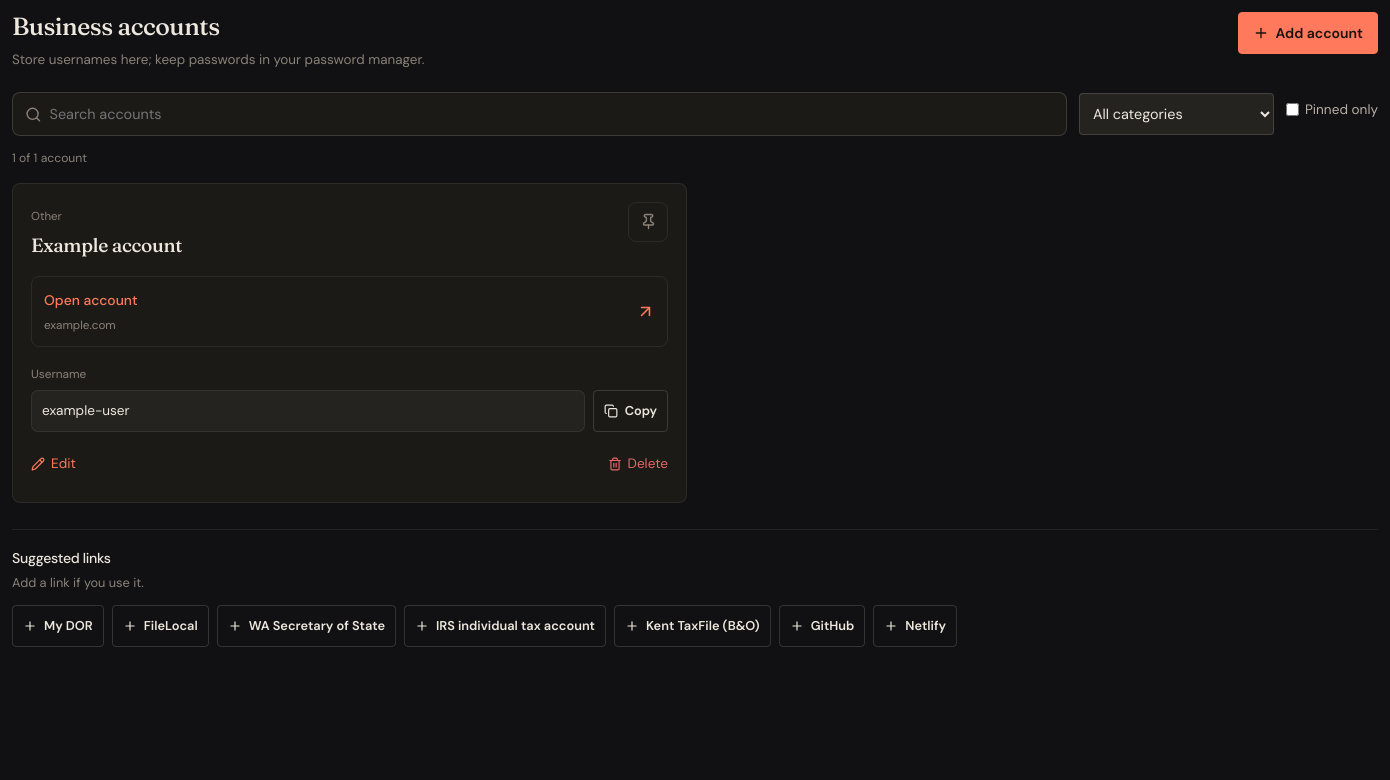
Test: private directory actions › copying uses the stored username while login links remain unchanged
Click the button with aria-label "Copy Example account username" at (630, 411), box [593,390,668,432]
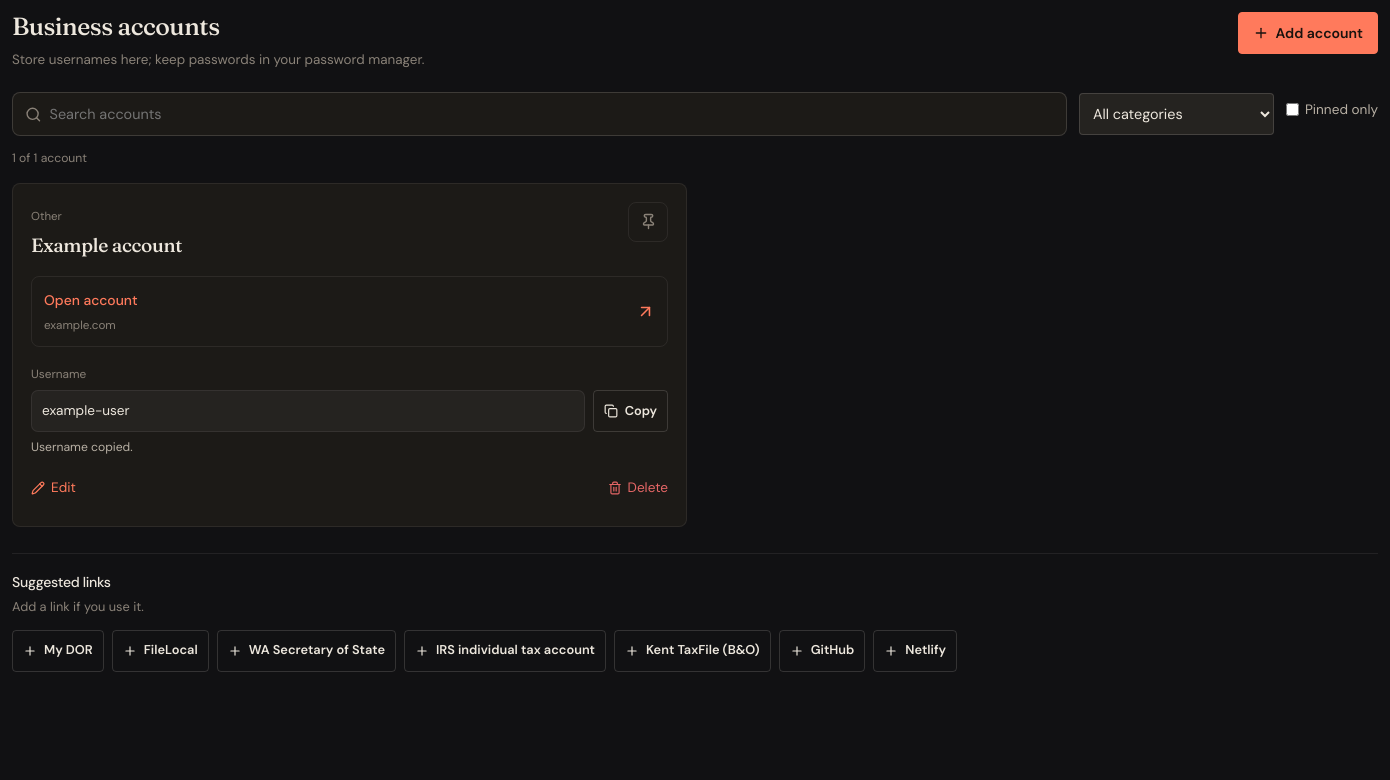
Expected: the message "Username copied." is shown, [31,439,133,455]
